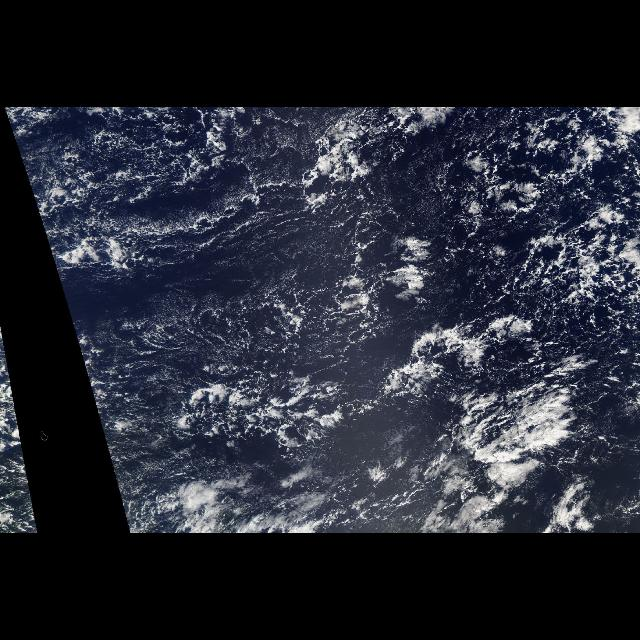Gravel: (352, 113, 630, 365)
Sugar: (19, 115, 359, 491), (18, 427, 32, 491)
